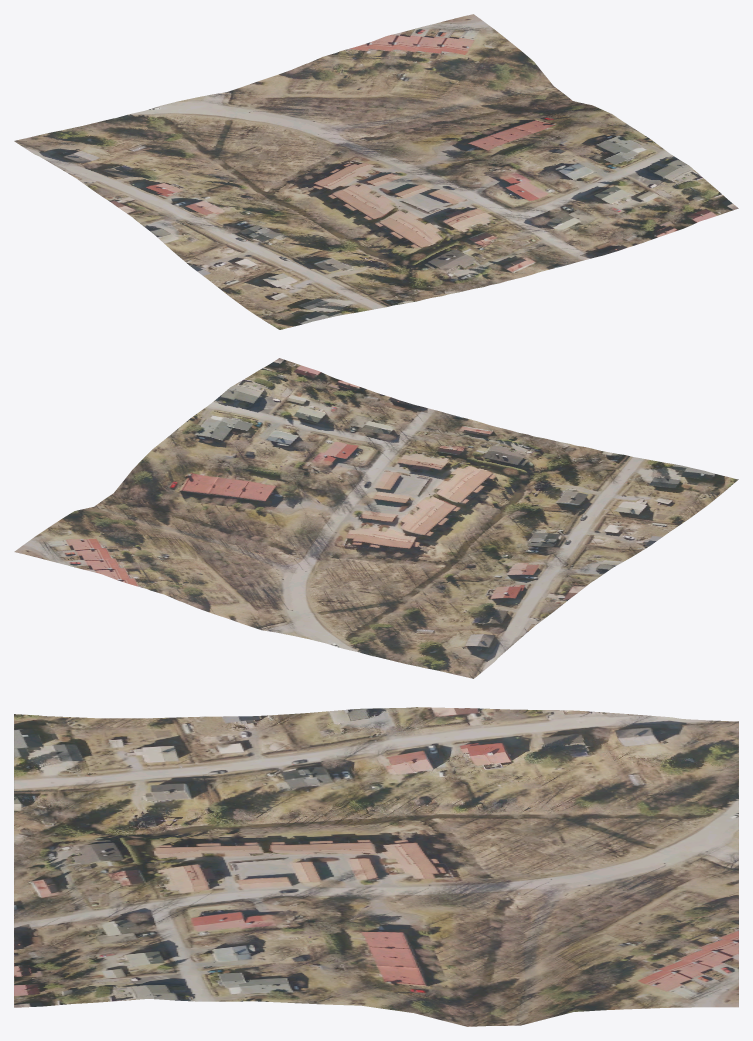
File: CM_Terrain_24490868_6821022.fbx
3 views of the same model, one above another, from view 1: azimuth 30°, elevation 25°; view 2: azimuth 150°, elevation 25°; view 3: azimuth 270°, elevation 25° (orthographic). The views are drawn at different scales.
Parts seen in each view (by area): view 1: CM_Terrain_24490868_6821022_LOD0; view 2: CM_Terrain_24490868_6821022_LOD0; view 3: CM_Terrain_24490868_6821022_LOD0.
Part boxes in pixels (left/top/right/bottom): CM_Terrain_24490868_6821022_LOD0: left=14, top=14, right=738, bottom=329; CM_Terrain_24490868_6821022_LOD0: left=14, top=358, right=738, bottom=678; CM_Terrain_24490868_6821022_LOD0: left=14, top=707, right=738, bottom=1026.
Size of what is drawn, in the model's own units: 205 by 10.56 by 205.
